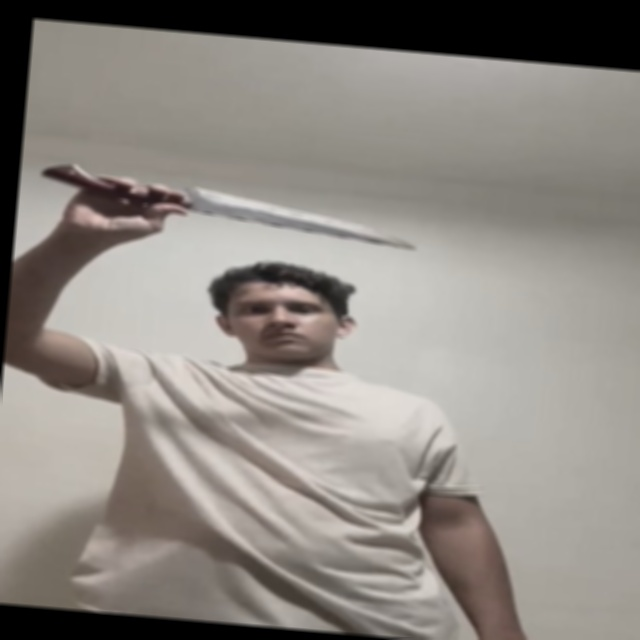Sharp-Object: (177, 185, 419, 249)
